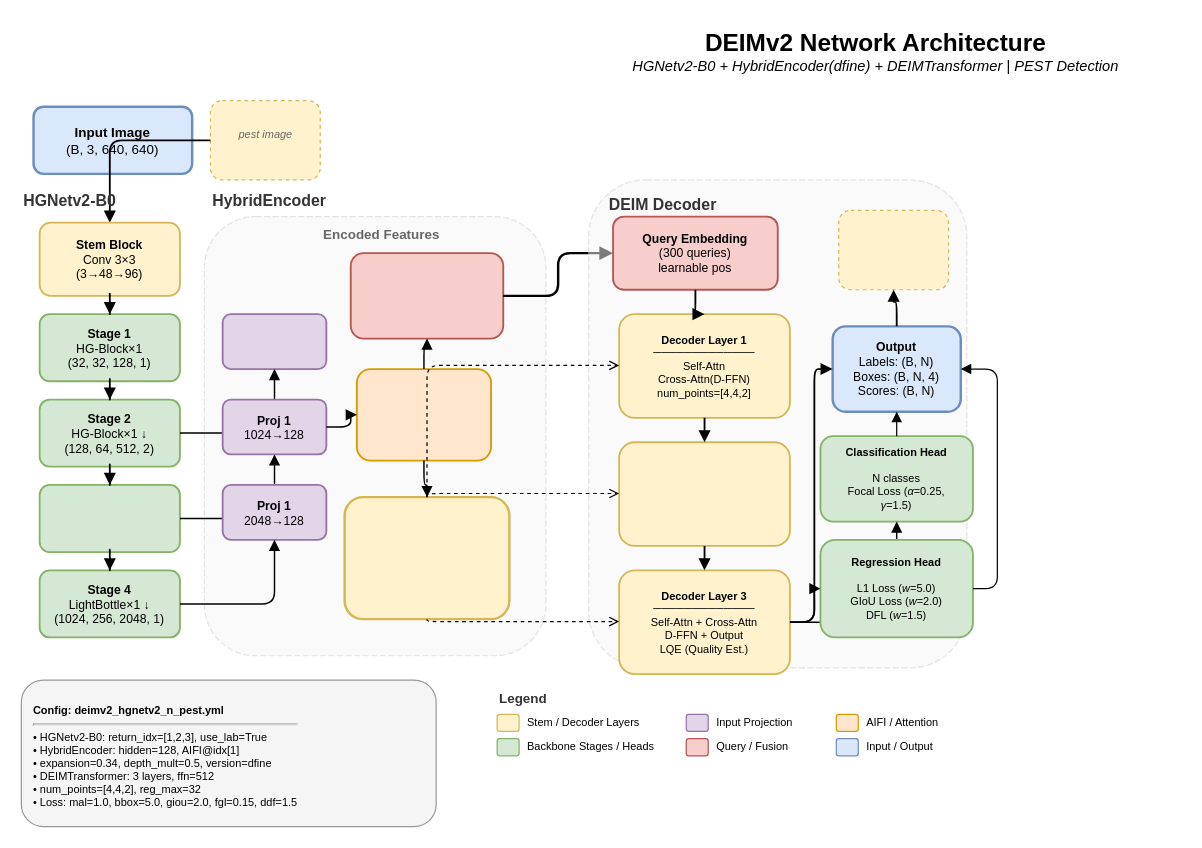
Some shapes in this 1202 by 848 pixel diagram are drawn without their labels. Each missing label, with the centre of its shape:
Cross-Scale Fusion Bi-FPN-PAN RepNCSPELAN4: the point at 426,295
Decoder Layer 2 ───────────── Self-Attn + Cross-Attn D-FFN (320 dim) SwiGLU FFN: the point at 704,493
detected: the point at 893,249
Encoder Layers × N hidden_dim=128 expansion= 0.34 depth_mult= 0.5 act= SiLU: the point at 426,557
Proj 1 512→128: the point at 274,341
SE-Attention + FFN AIFI @ idx[1] hidden_dim=128: the point at 423,414
Stage 3 LightBottle×2 ↓ (512, 128, 1024, 3): the point at 109,517
